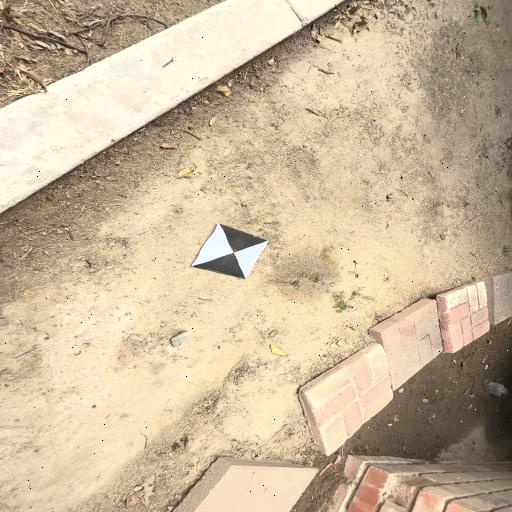target: (191, 223, 269, 279)
